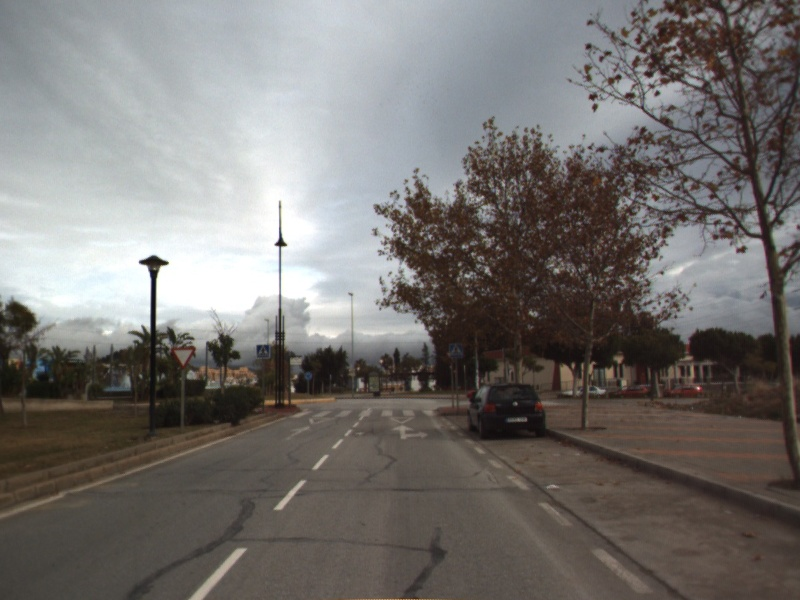STRAIGHT: (283, 423, 314, 442)
STRAIGHT_RIGHT: (389, 422, 430, 441)
